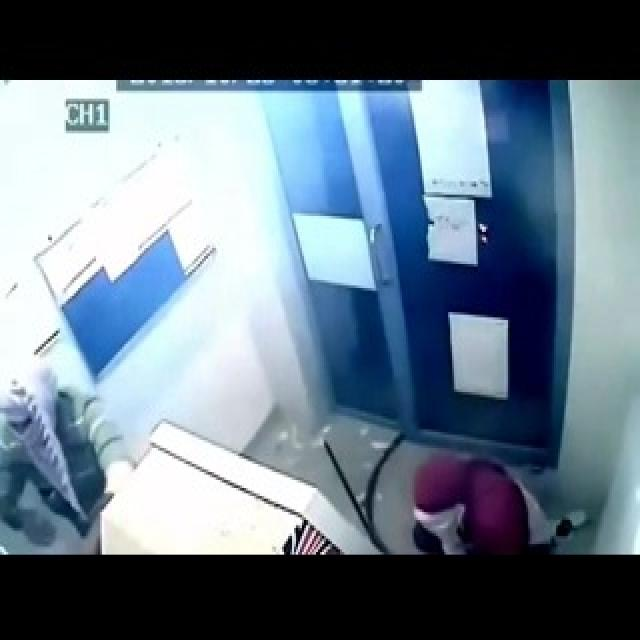thief: (1, 367, 127, 526), (408, 462, 542, 546)
